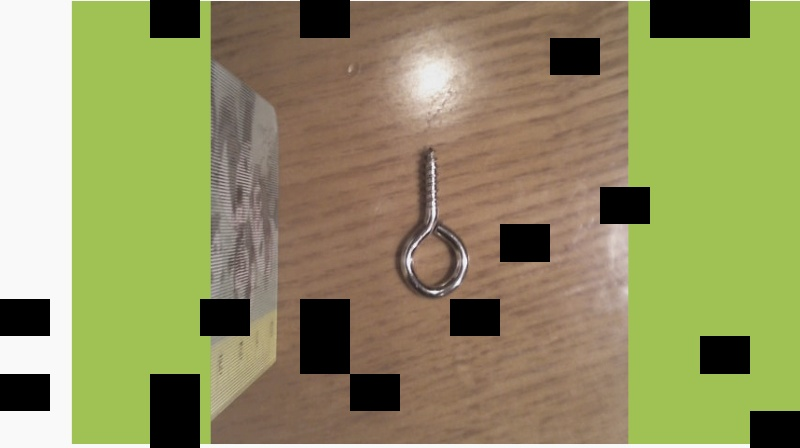O001: (391, 146, 471, 306)
